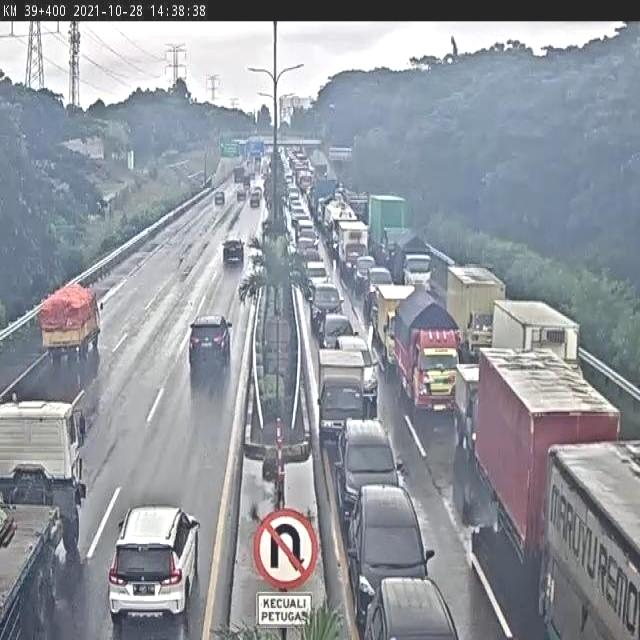Car: (342, 475, 442, 601), (110, 506, 200, 628), (329, 418, 418, 510), (360, 577, 461, 640), (314, 380, 374, 446), (185, 311, 235, 390), (215, 225, 252, 278), (316, 309, 358, 351), (209, 185, 228, 218)
Truck: (456, 363, 614, 583), (0, 408, 98, 631), (540, 440, 639, 640), (376, 286, 460, 414), (493, 281, 585, 391), (38, 271, 106, 381), (450, 263, 510, 360)
